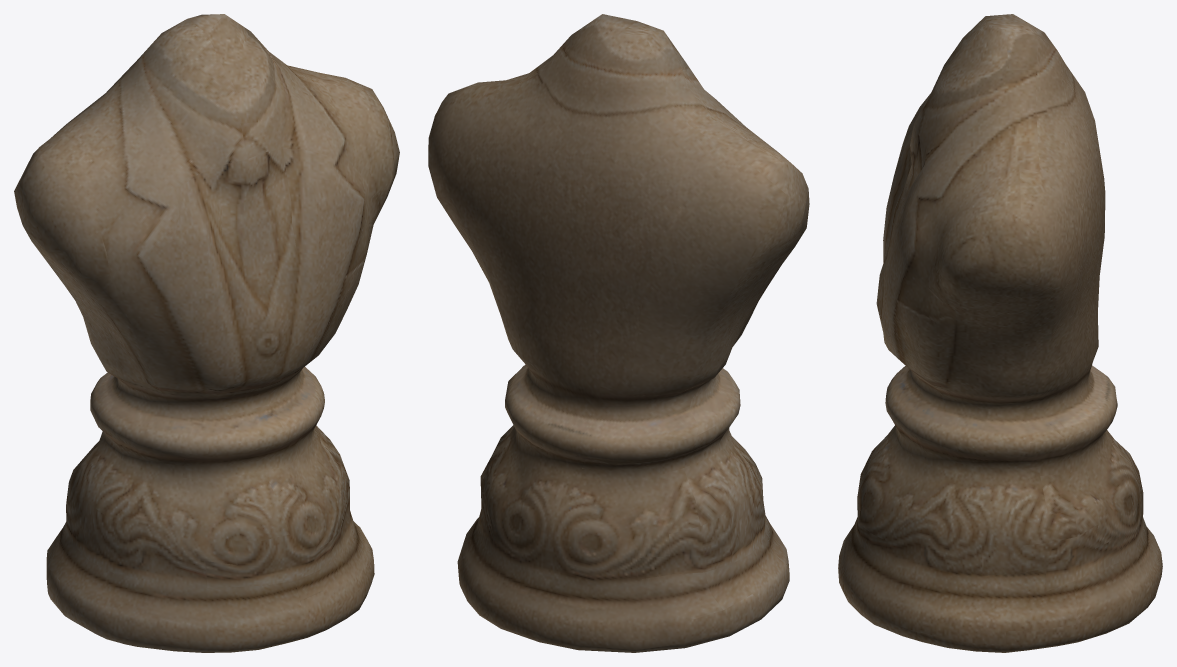
The model's file is NPC_Body_02.fbx.
The picture shows the model from 3 angles, left to right: view 1: azimuth 30°, elevation 25°; view 2: azimuth 150°, elevation 25°; view 3: azimuth 270°, elevation 25°; orthographic projection.
Visible parts, largest first — view 1: NPC_Body_02; view 2: NPC_Body_02; view 3: NPC_Body_02.
Part boxes in pixels (x1=…): NPC_Body_02: x1=14, y1=14, x2=399, y2=652; NPC_Body_02: x1=428, y1=14, x2=809, y2=652; NPC_Body_02: x1=838, y1=14, x2=1162, y2=652.
Bounding box in the file's own units: 64.82 × 98.71 × 51.23.
